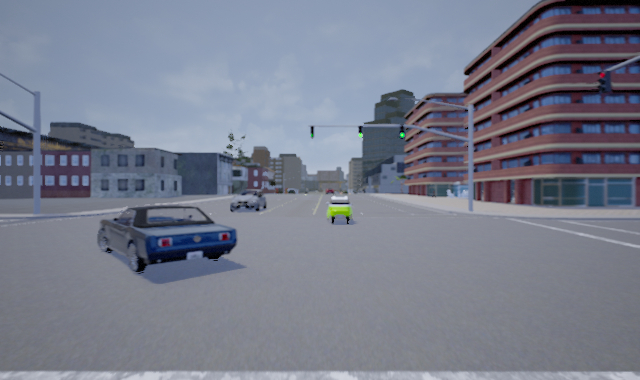traffic_light: (597, 68, 612, 97), (357, 123, 365, 140), (399, 125, 406, 141), (309, 124, 315, 140)
vehicle: (96, 202, 237, 273), (227, 189, 268, 212), (325, 195, 355, 224)
